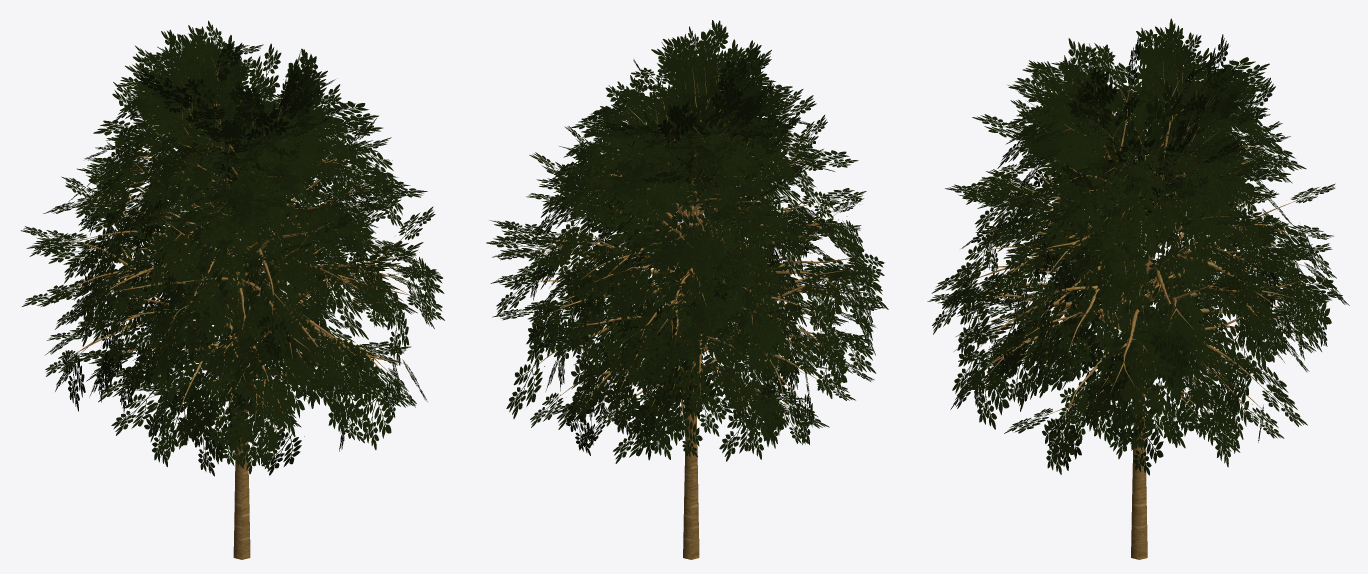
Rendered from SM_tree_03.glb.
3 renders of one model, left to right at view 1: azimuth 30°, elevation 25°; view 2: azimuth 150°, elevation 25°; view 3: azimuth 270°, elevation 25°, orthographic. The views are drawn at different scales.
Parts seen in each view (by area): view 1: SM_tree_03; view 2: SM_tree_03; view 3: SM_tree_03.
Boxes of the visible parts, x1,y1,x2,y2 form: SM_tree_03: (20,20,444,559); SM_tree_03: (486,20,888,559); SM_tree_03: (927,18,1349,559).
Size of the model in its own units: 27.16 by 33.87 by 25.37.
Materials: 2 (2 with a texture image).
